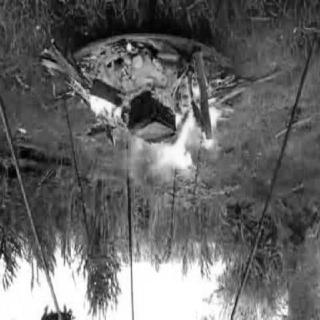Fire: (27, 36, 257, 258)
